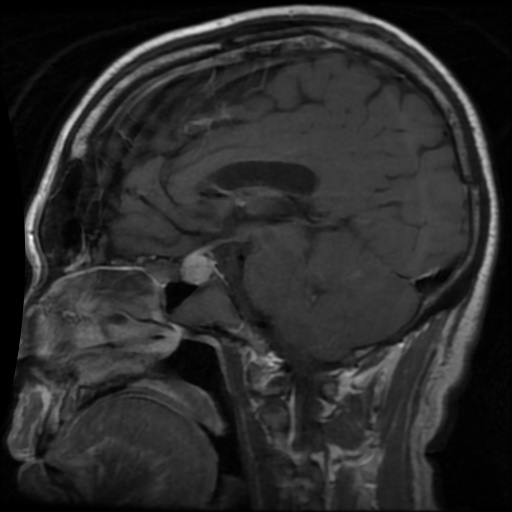pituitary: (178, 250, 218, 285)
